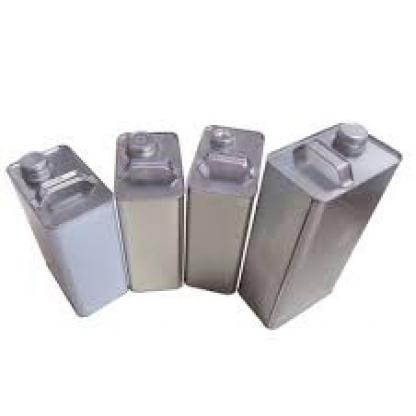Compsot: (234, 119, 399, 328), (6, 140, 127, 315), (184, 121, 263, 295), (113, 129, 180, 291)
